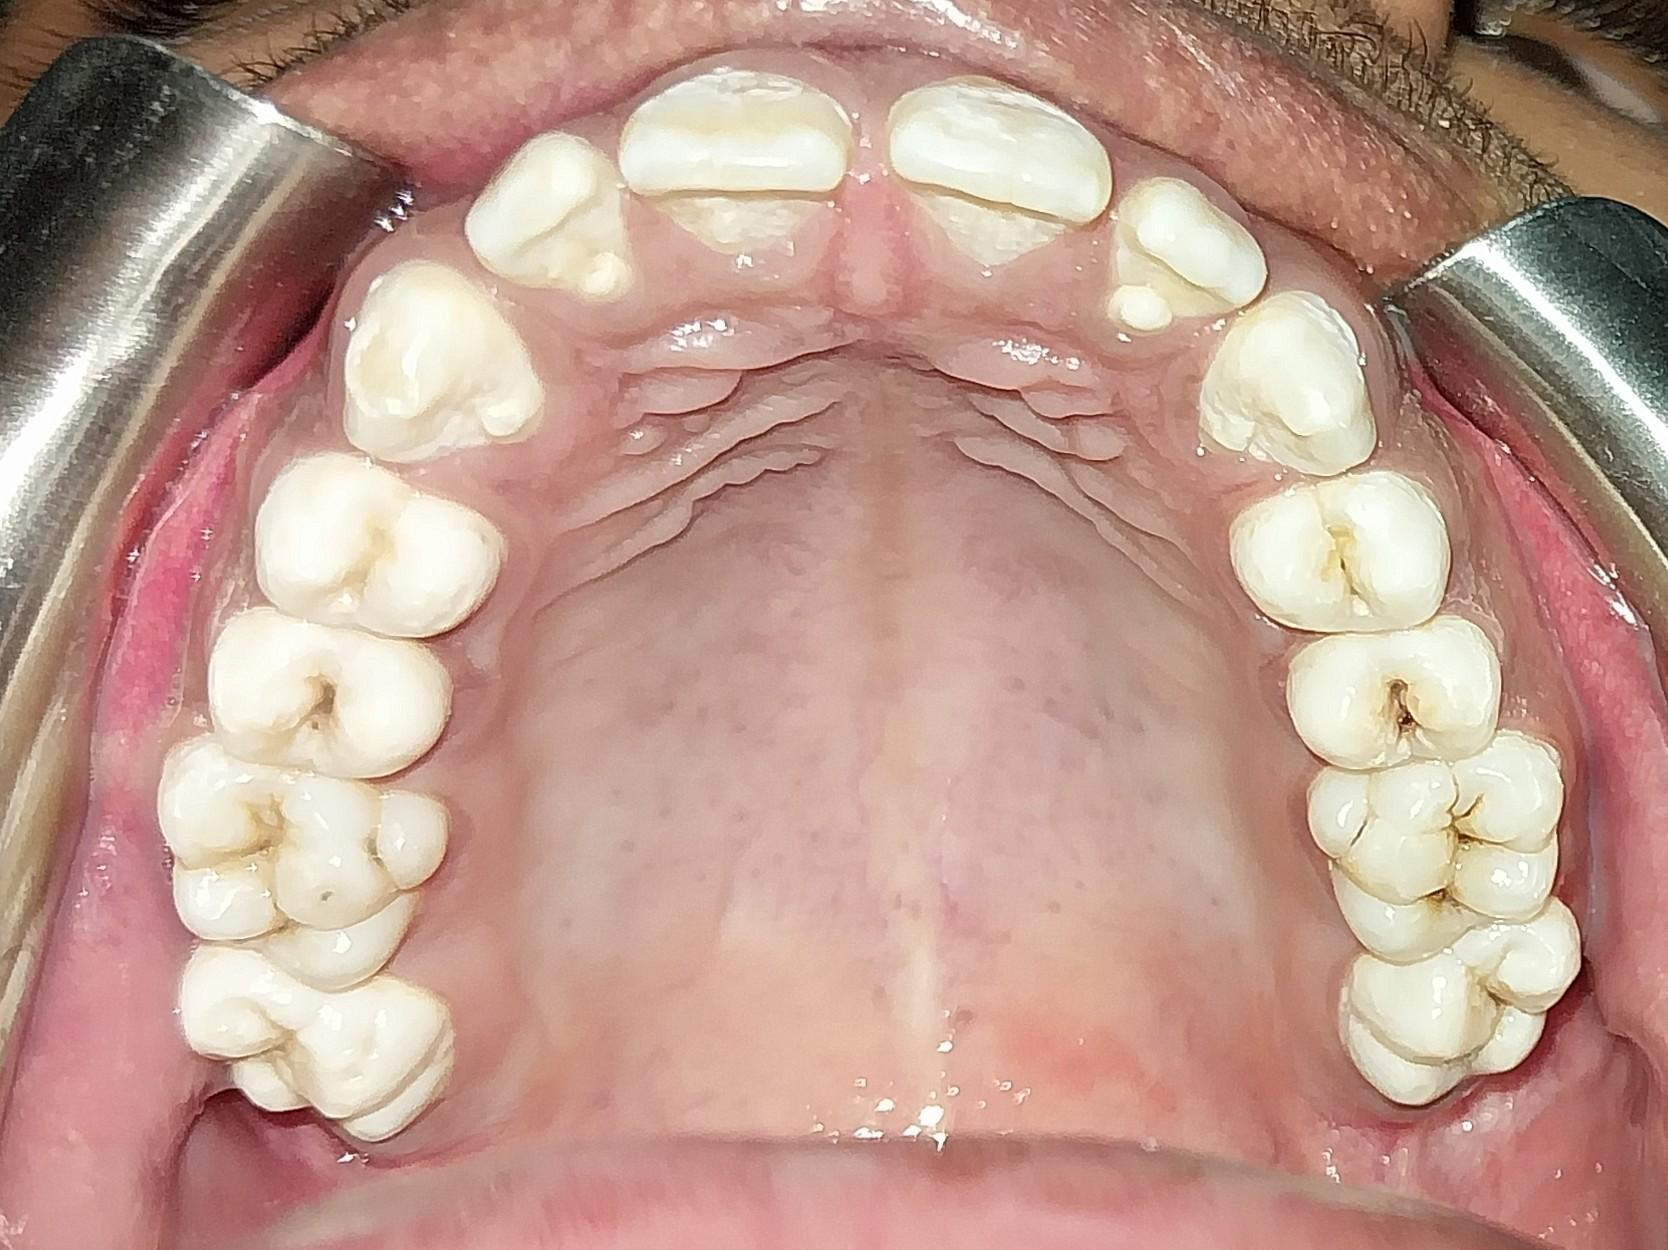D: (1310, 742, 1561, 952), (1344, 905, 1580, 1110), (197, 607, 444, 782), (1282, 633, 1510, 773)
